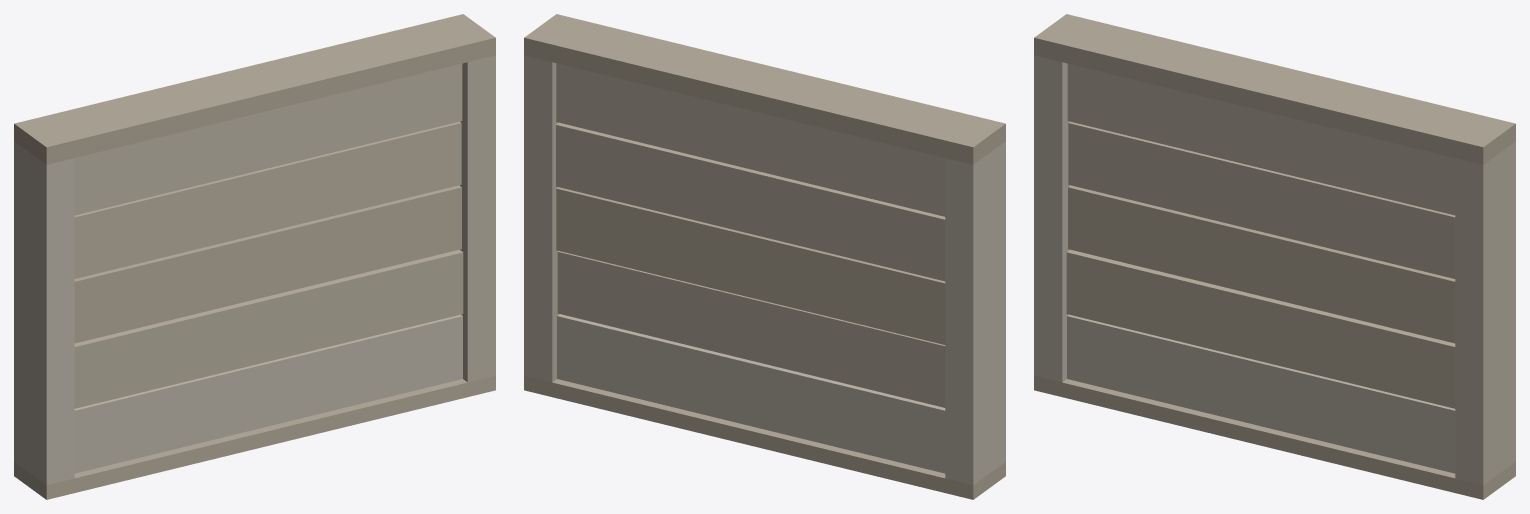
Rendered from Wall.glb.
3 views of the same model, side by side, from view 1: azimuth 30°, elevation 25°; view 2: azimuth 150°, elevation 25°; view 3: azimuth 330°, elevation 25° (orthographic).
Visible parts, largest first — view 1: Wood; view 2: Wood; view 3: Wood.
Boxes of the visible parts, x1=… form: Wood: x1=14, y1=14, x2=495, y2=499; Wood: x1=524, y1=14, x2=1005, y2=499; Wood: x1=1034, y1=14, x2=1515, y2=499.
Size of what is drawn, in the model's own units: 8 by 6 by 1.
